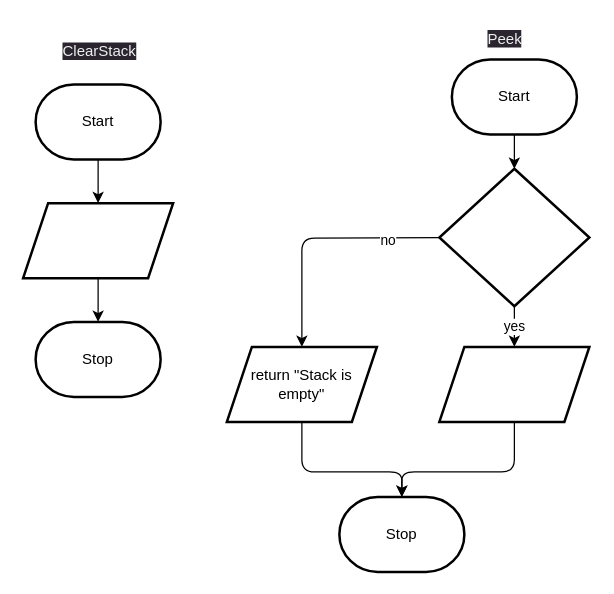
Image size: 614x594. Some labels were removed from this diagram. The shapes that lost their labels are listed below. From the top down, each one's box as (x1, y1, x2, y2) in pixels, then its label:
(21, 201, 174, 279): strStack = [ ]
(438, 167, 590, 307): if strStack.length > 0
(438, 345, 590, 422): return strStack[strStack.length - 1]
